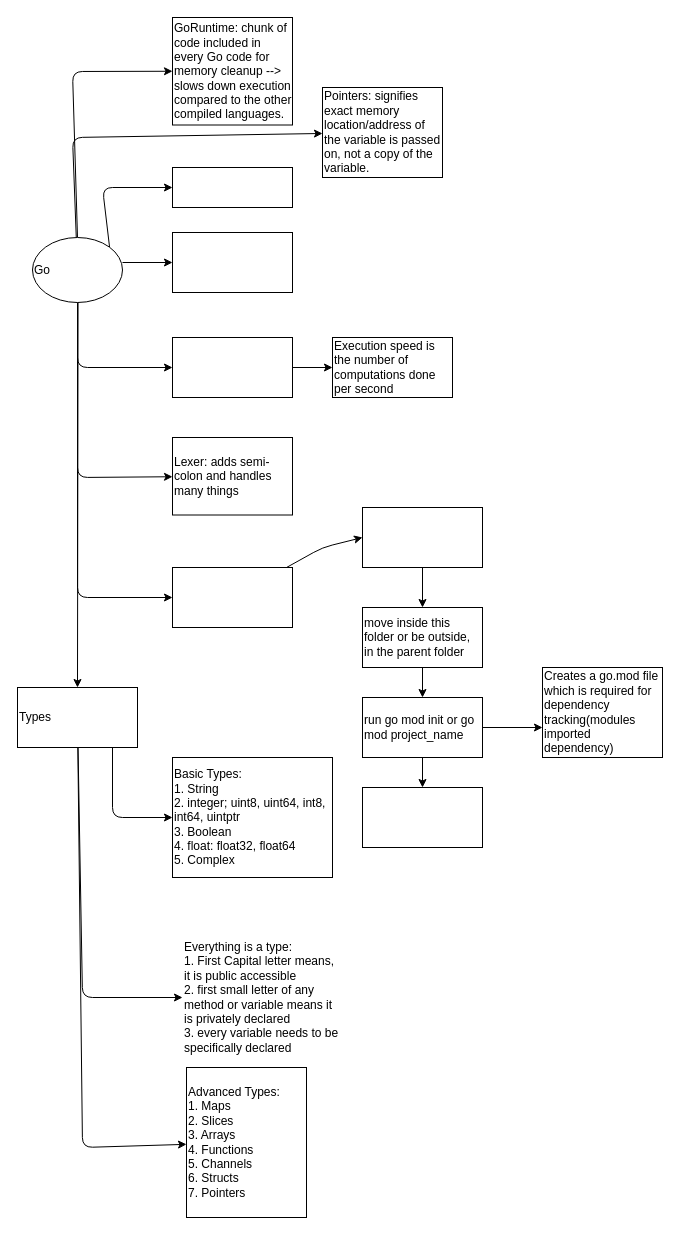
Image size: 680x1235. Some labels were removed from this diagram. Here are the shapes that lost their labels. From the top down, the centre of each, then its label:
At (232,187): "No Try Catch/Except".
At (232,262): "Compiled language, complies directly into machine code".
At (232,367): "Execution Speed is similar to VM languages like Java, C#.".
At (422,537): "Create a folder, let's name it hello_world".
At (232,597): "First go program".
At (422,817): "Create a main.go file and start programming in Go".
